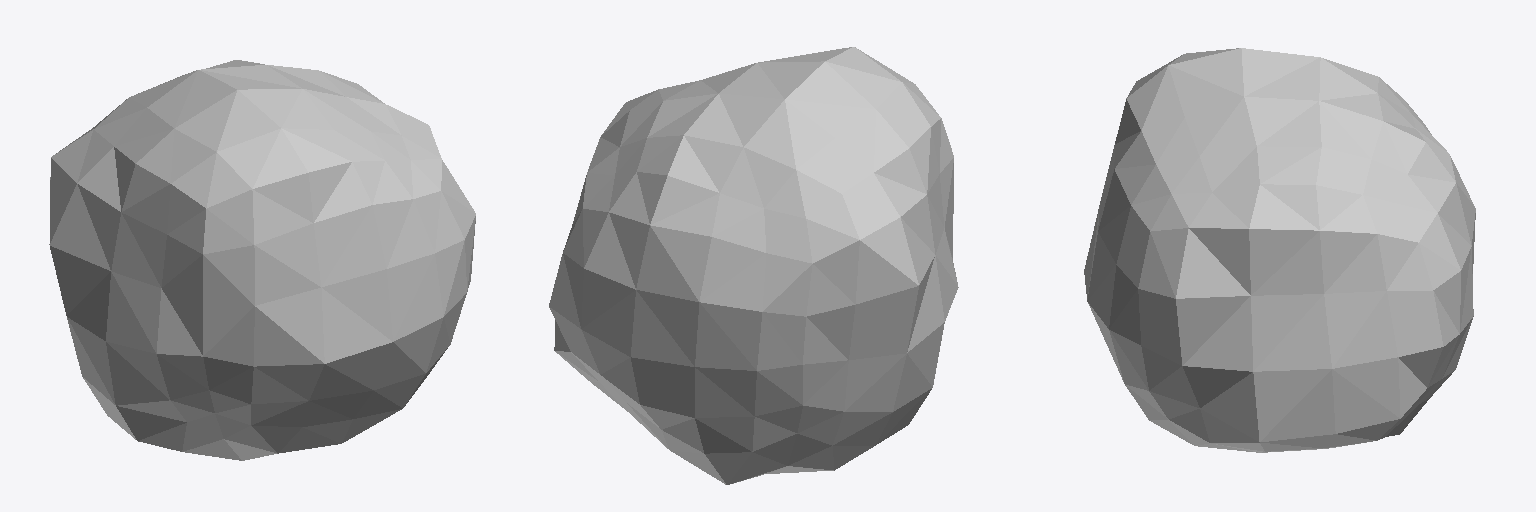
The model's file is rock6.obj.
3 views of the same model, side by side, from view 1: azimuth 30°, elevation 25°; view 2: azimuth 150°, elevation 25°; view 3: azimuth 270°, elevation 25° (orthographic).
Parts seen in each view (by area): view 1: rock6; view 2: rock6; view 3: rock6.
Part boxes in pixels (bbox=[...]): rock6: bbox=[49, 60, 475, 460]; rock6: bbox=[549, 47, 958, 484]; rock6: bbox=[1084, 48, 1475, 452].
Size of the model in its own units: 2.22 by 2.25 by 2.1.